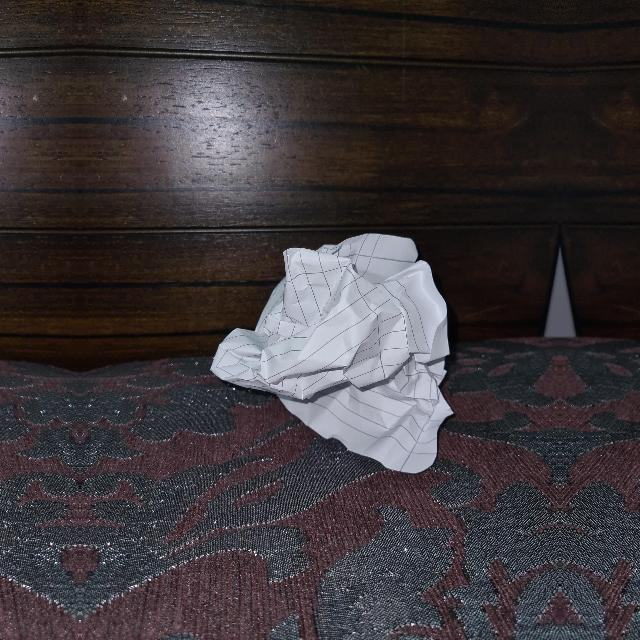paper: (202, 236, 453, 477)
